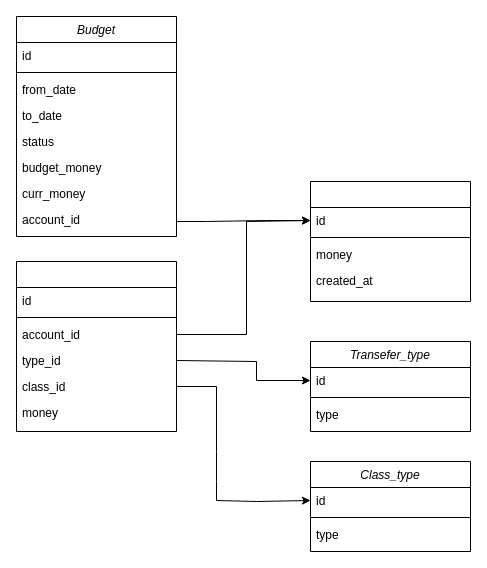
This 487x568 diagram has some shape labels left out. Each missing label, with the box of its shape:
Account: (310, 180, 470, 302)
Transfer: (16, 260, 176, 432)
